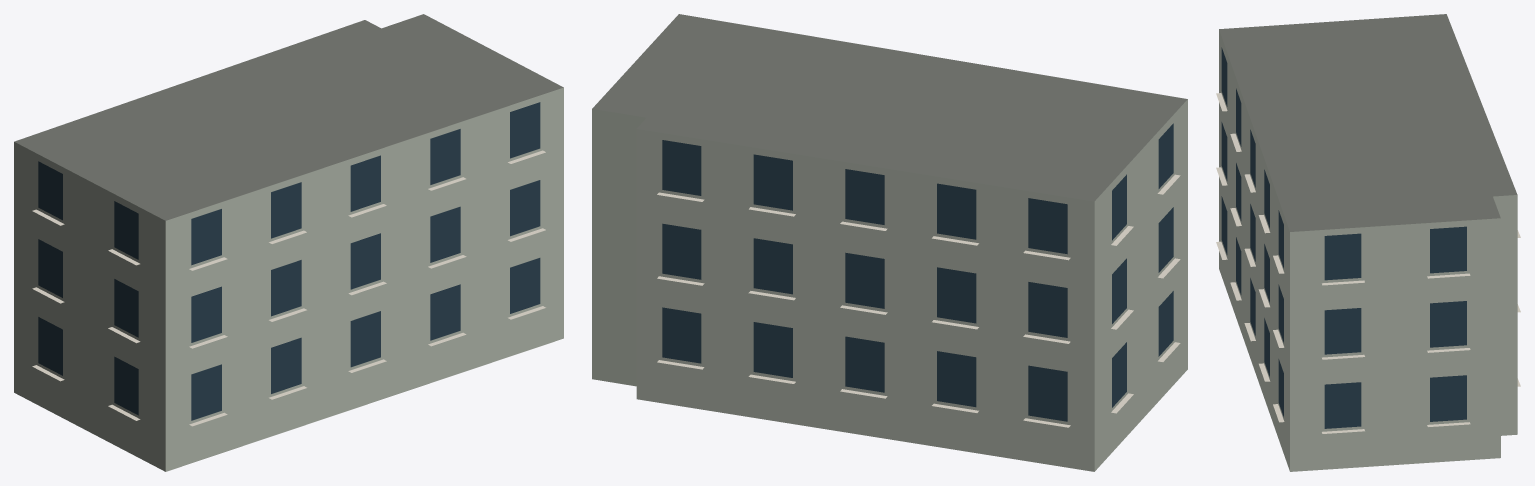
The picture shows the model from 3 angles, left to right: view 1: azimuth 30°, elevation 25°; view 2: azimuth 150°, elevation 25°; view 3: azimuth 270°, elevation 25°; orthographic projection. The views are drawn at different scales.
Parts seen in each view (by area): view 1: Footprint 0, Inferred window bays, Window sills; view 2: Footprint 0, Inferred window bays, Window sills; view 3: Footprint 0, Inferred window bays, Window sills.
Boxes of the visible parts, bbox=[...] form: Footprint 0: bbox=[14, 14, 563, 471]; Inferred window bays: bbox=[38, 102, 540, 420]; Window sills: bbox=[32, 150, 545, 426]; Footprint 0: bbox=[592, 14, 1187, 471]; Inferred window bays: bbox=[662, 123, 1173, 421]; Window sills: bbox=[657, 174, 1180, 427]; Footprint 0: bbox=[1219, 14, 1517, 471]; Inferred window bays: bbox=[1221, 47, 1466, 428]; Window sills: bbox=[1216, 93, 1520, 433].
Bounding box in the file's own units: 17.3 × 8.81 × 10.16.
